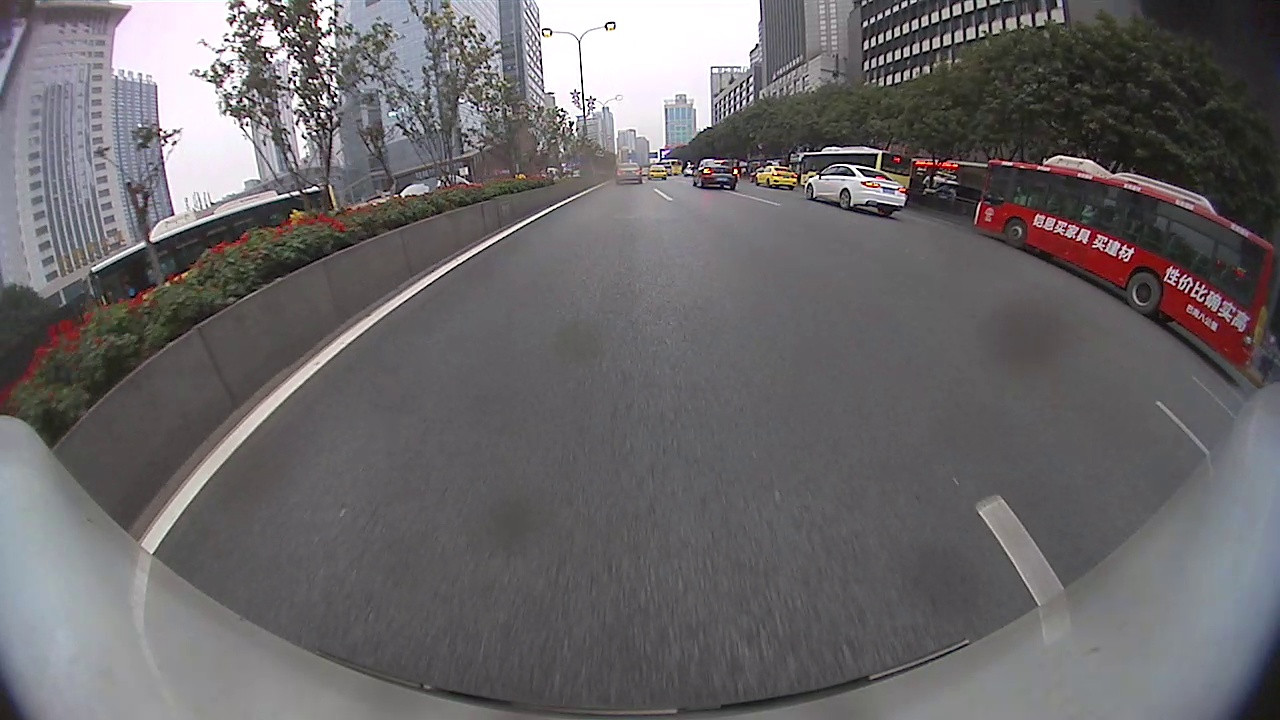bus: (974, 157, 1272, 370), (90, 181, 335, 317), (800, 146, 913, 192)
car: (804, 162, 907, 216), (397, 174, 474, 200), (693, 158, 738, 192), (753, 162, 799, 190), (613, 162, 644, 185)
front: (1005, 220, 1030, 249), (805, 185, 815, 202)
rear: (1127, 272, 1162, 317), (840, 190, 852, 210)
